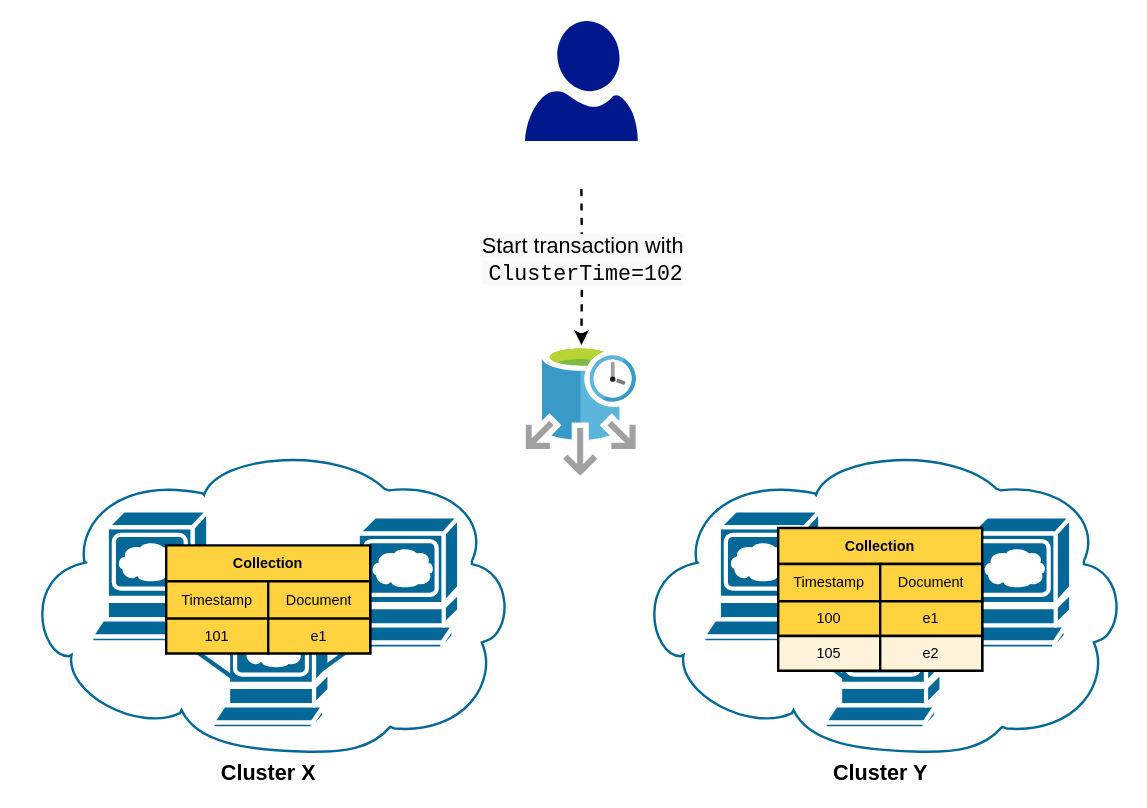
Image size: 1147x808. Some labels were removed from this diagram. The centre of each missing label's shape, as x and y in pixels:
Client: the point at 580,80
MongoS: the point at 581,410
